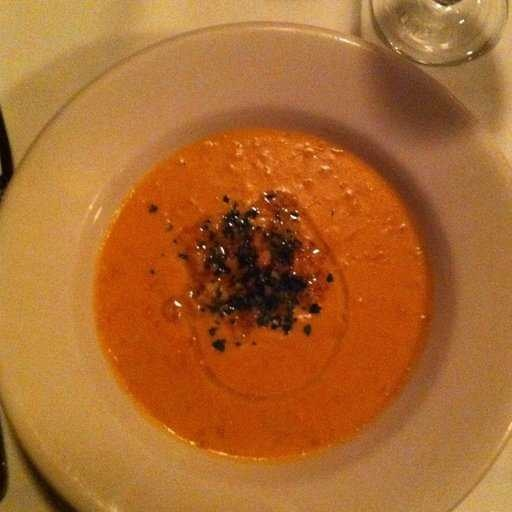soup: (53, 125, 445, 462)
